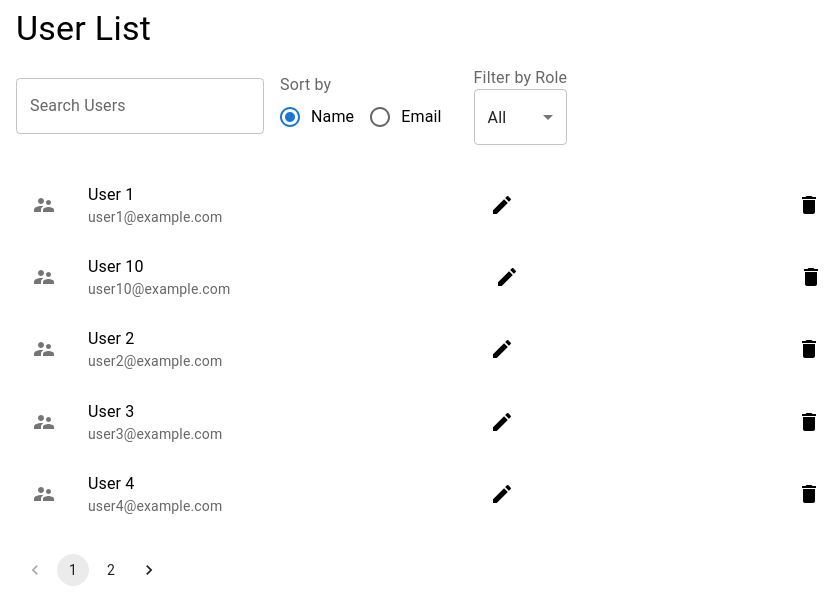
Test: UserEmployeeListSchwer › handles pagination
Expected: the text "User 1" is shown, [88,186,134,204]
Expected: the text "User 6" is not shown
Click the button named "Go to page 2". click: [111, 570]
box: [95,554,127,586]
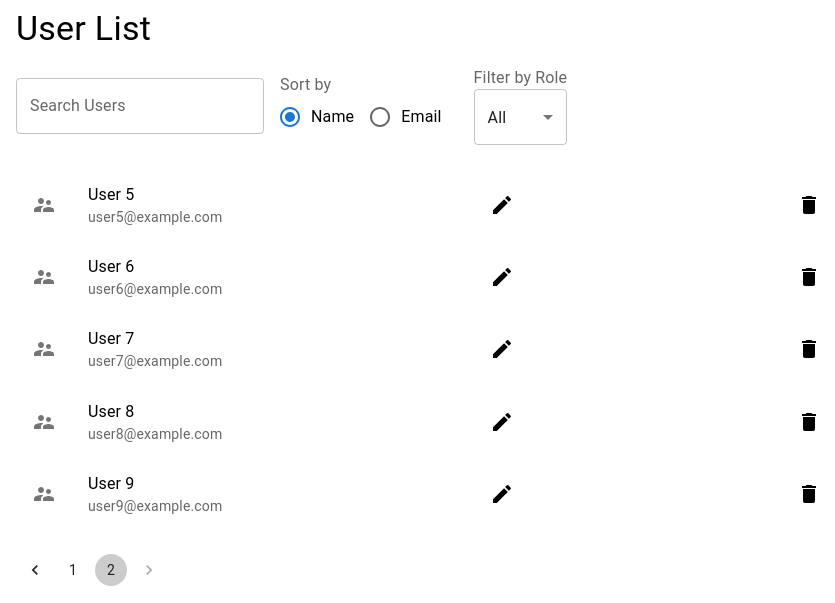
Result: the text "User 1" is gone
Result: the text "User 6" is shown at [88,258,134,276]
